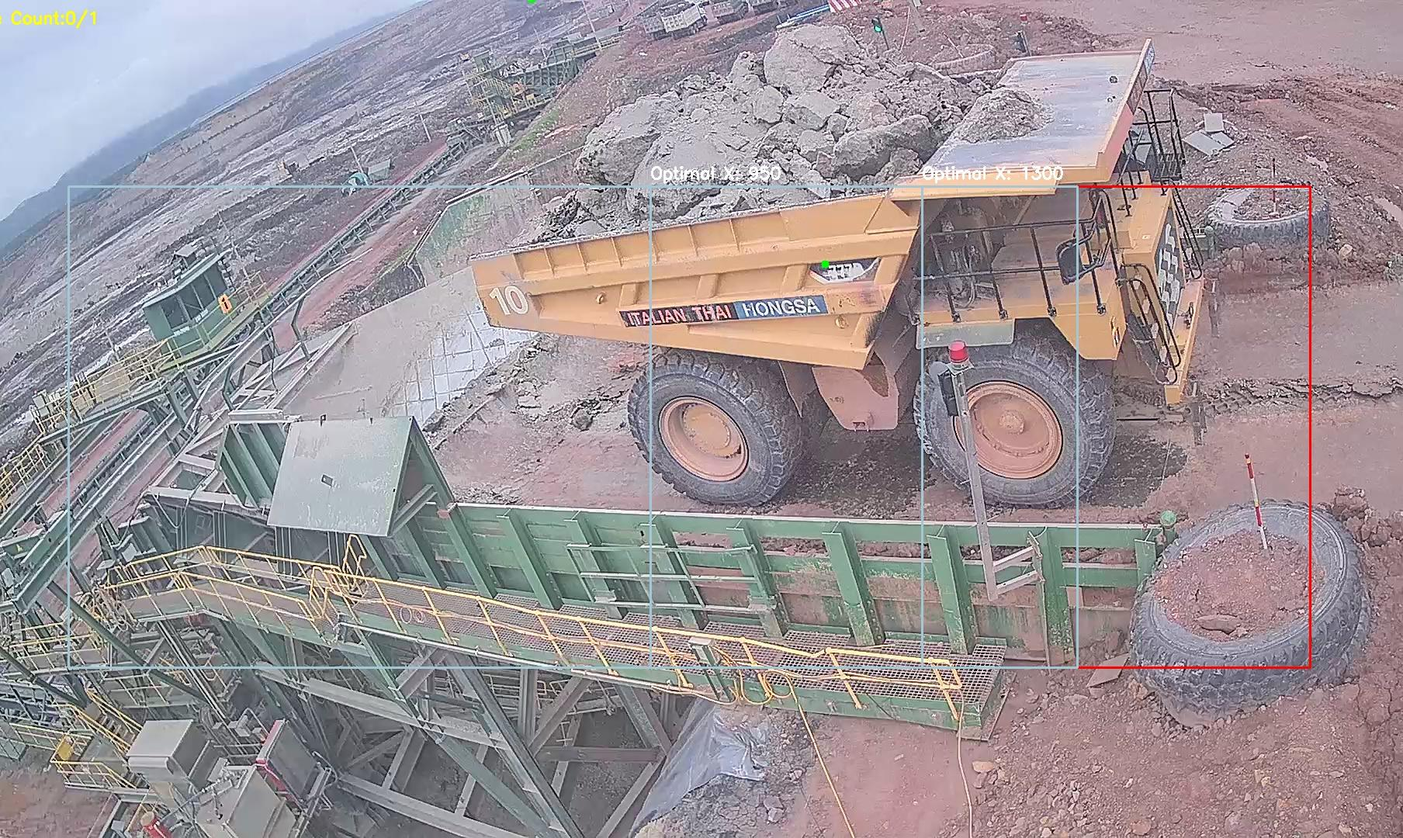company: (611, 292, 849, 331)
full_load: (583, 13, 938, 214)
mining_truck: (457, 6, 1235, 510)
tail_number: (479, 270, 540, 323)
truck_size: (799, 254, 895, 289)
